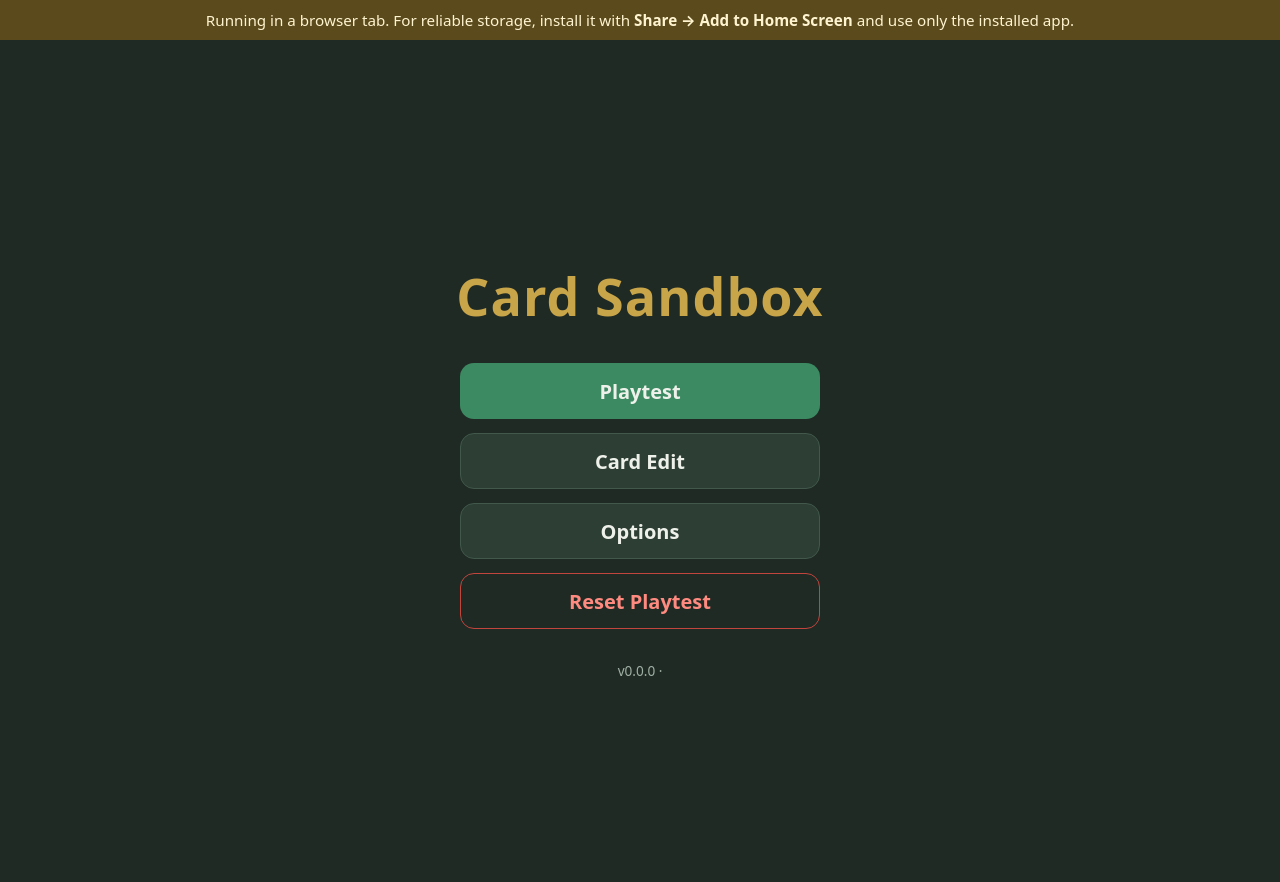
Test case: App shell › navigates to Options and back
Expected: the button "Card Edit" is shown, [460,433,820,489]
Click the button "Options" at x=640, y=531, box [460,503,820,559]
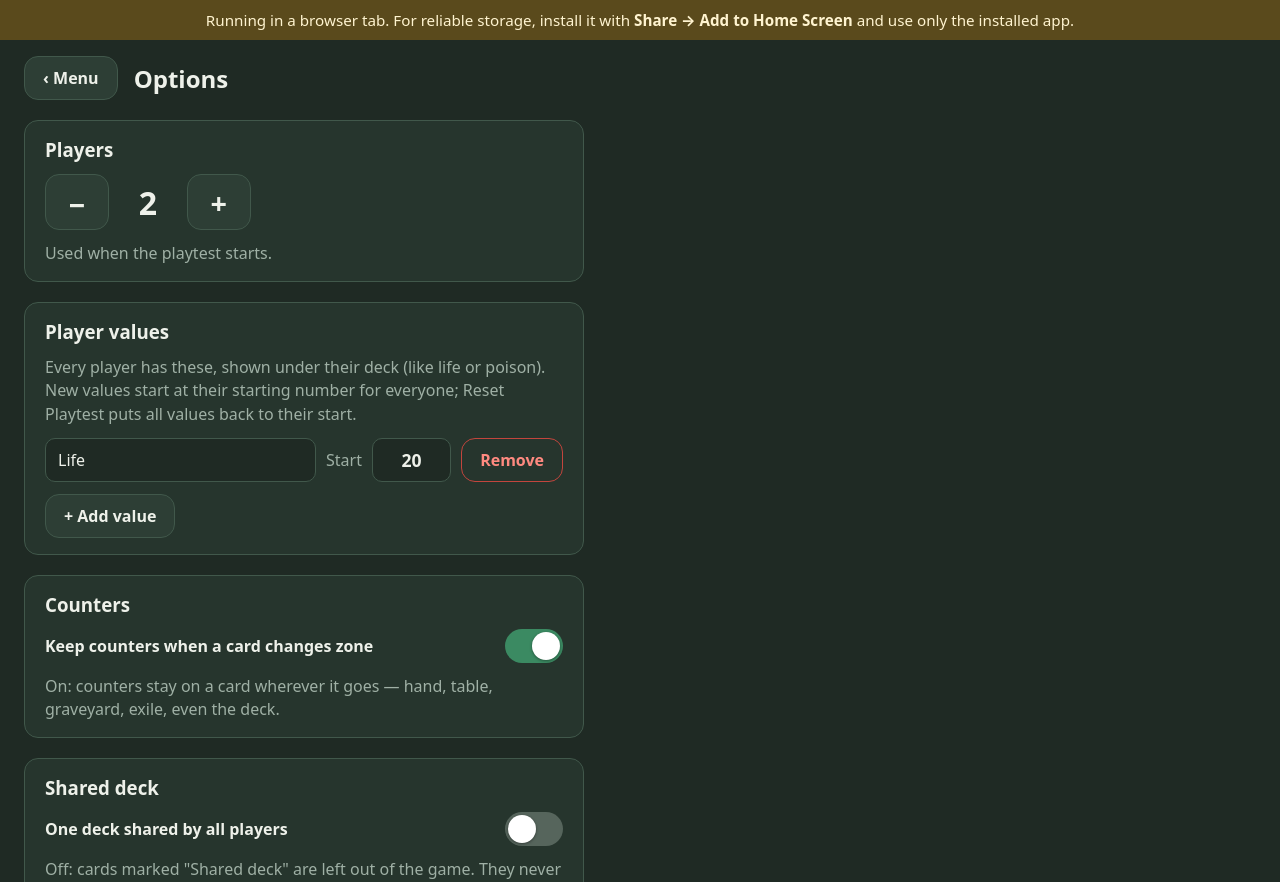
Expected: the heading "Options" is shown, [134,62,228,94]
Click the button with aria-label "Back to menu" at x=71, y=78, box [24,56,118,100]
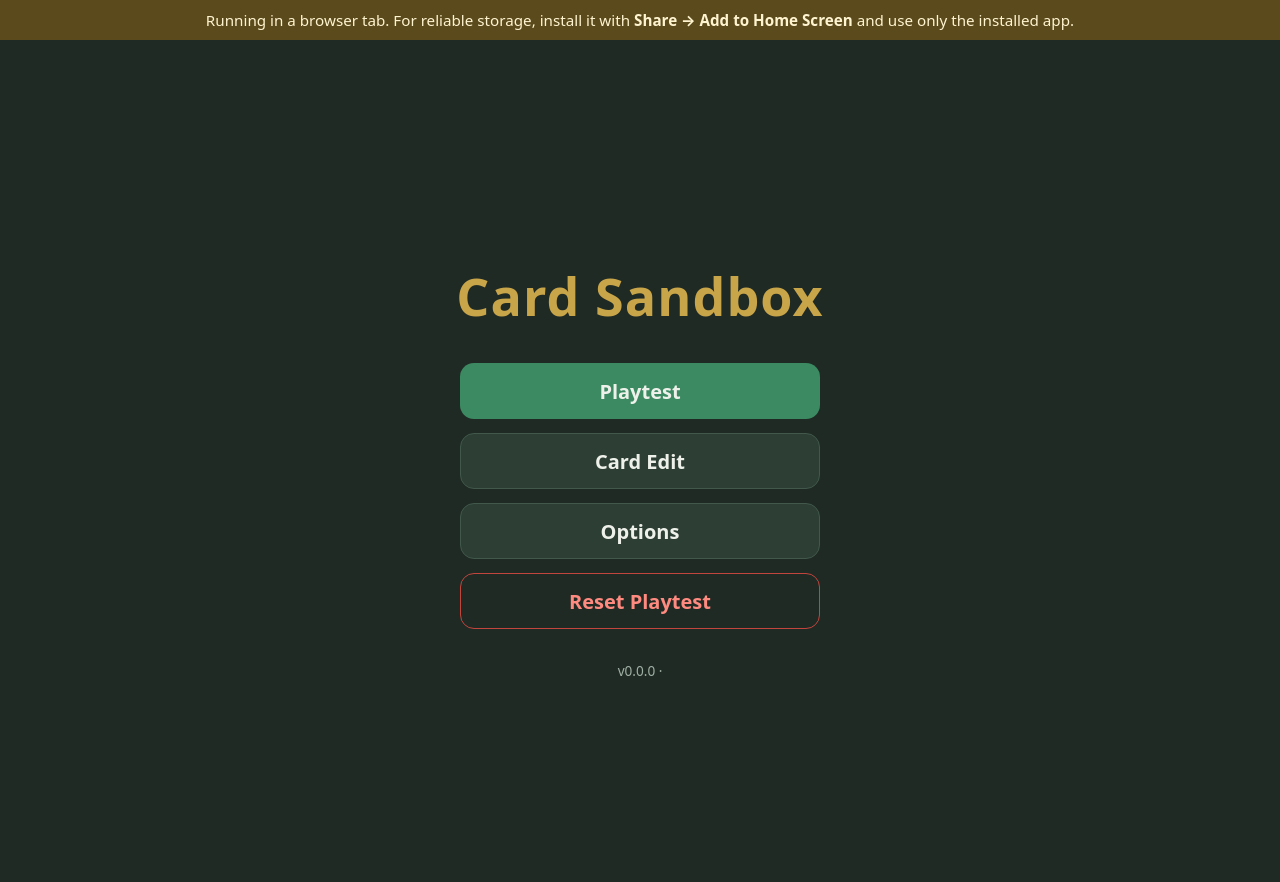
Expected: the button "Card Edit" is shown, [460,433,820,489]
